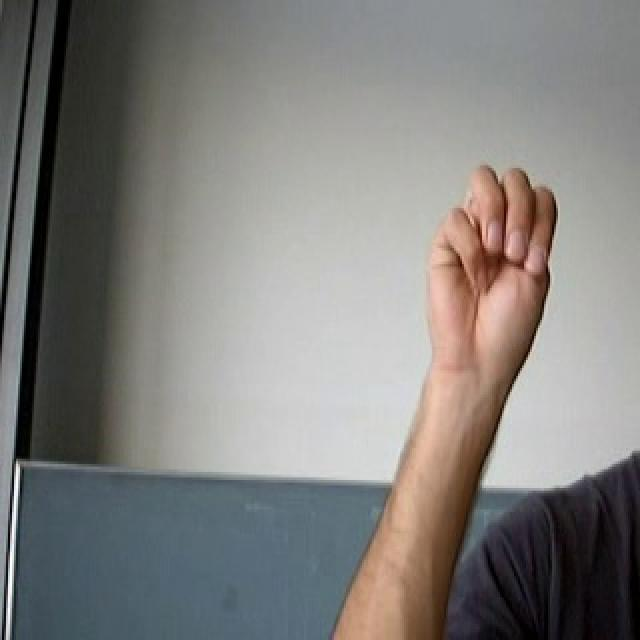M: (419, 159, 571, 398)
